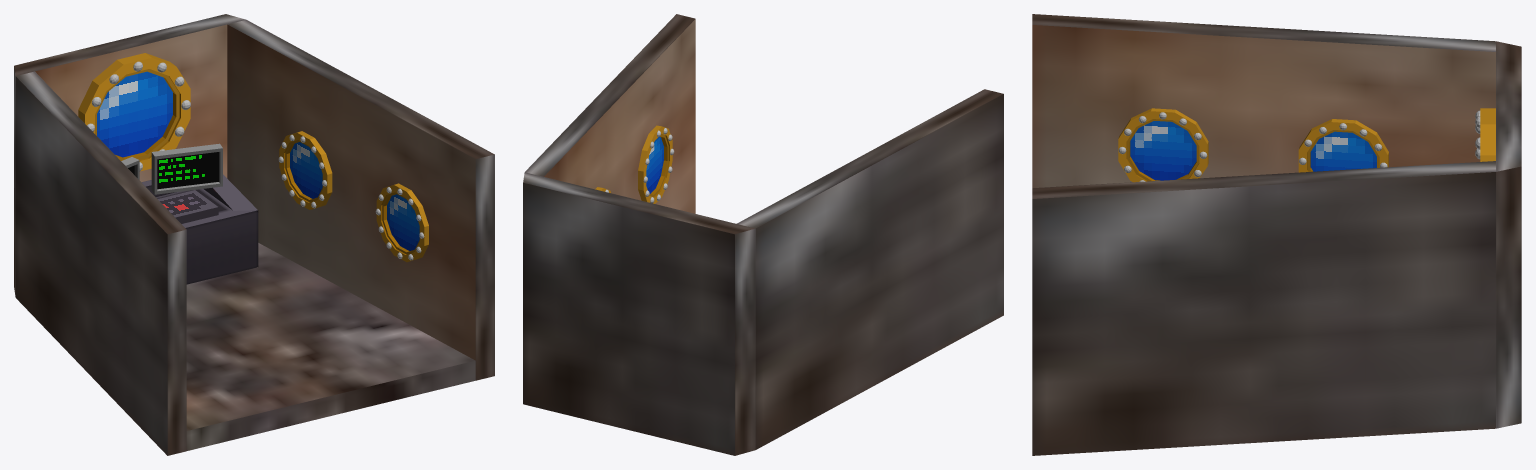
File: ControlRoomFINAL.fbx
The picture shows the model from 3 angles, left to right: view 1: azimuth 30°, elevation 25°; view 2: azimuth 150°, elevation 25°; view 3: azimuth 270°, elevation 25°; orthographic projection. The views are drawn at different scales.
Parts seen in each view (by area): view 1: Control Walls, windowDONE_1, the control table, windowDONE_4, windowDONE_3, screen_1, Control Panel; view 2: Control Walls, windowDONE_3; view 3: Control Walls, windowDONE_2, windowDONE, windowDONE_1.
Part boxes in pixels (left/top/right/bottom): Control Walls: left=14, top=14, right=494, bottom=455; windowDONE_1: left=78, top=53, right=190, bottom=171; the control table: left=142, top=174, right=258, bottom=284; windowDONE_4: left=278, top=131, right=332, bottom=209; windowDONE_3: left=375, top=183, right=428, bottom=262; screen_1: left=151, top=143, right=222, bottom=194; Control Panel: left=158, top=190, right=218, bottom=223; Control Walls: left=523, top=14, right=1003, bottom=455; windowDONE_3: left=638, top=125, right=674, bottom=203; Control Walls: left=1032, top=14, right=1521, bottom=455; windowDONE_2: left=1118, top=108, right=1208, bottom=182; windowDONE: left=1298, top=119, right=1388, bottom=172; windowDONE_1: left=1475, top=108, right=1495, bottom=161.
Size of the model in its own units: 212 by 138 by 238.
Materials: 7 (7 with a texture image).
